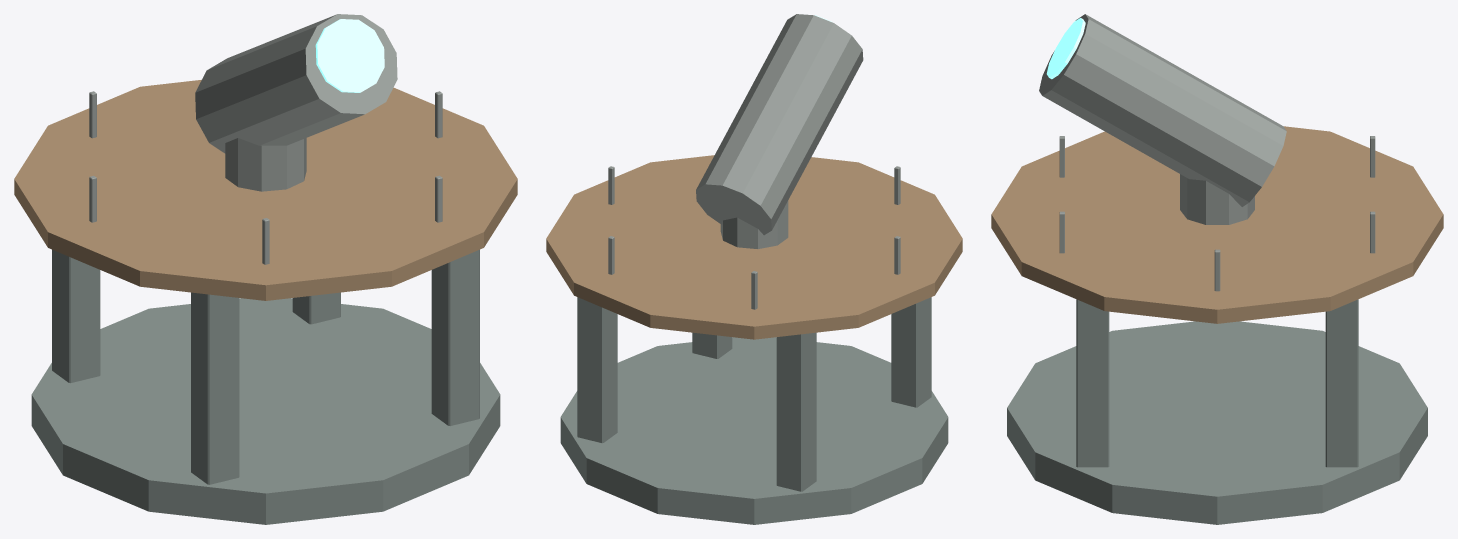
The model's file is LumenSunmossObservatory.glb.
3 views of the same model, side by side, from view 1: azimuth 30°, elevation 25°; view 2: azimuth 150°, elevation 25°; view 3: azimuth 270°, elevation 25° (orthographic). The views are drawn at different scales.
Parts seen in each view (by area): view 1: LumenSunmossObservatory; view 2: LumenSunmossObservatory; view 3: LumenSunmossObservatory.
Part boxes in pixels (left/top/right/bottom): LumenSunmossObservatory: left=14, top=14, right=517, bottom=524; LumenSunmossObservatory: left=546, top=14, right=962, bottom=524; LumenSunmossObservatory: left=991, top=14, right=1443, bottom=524.
Size of the model in its own units: 29 by 29.52 by 29.
